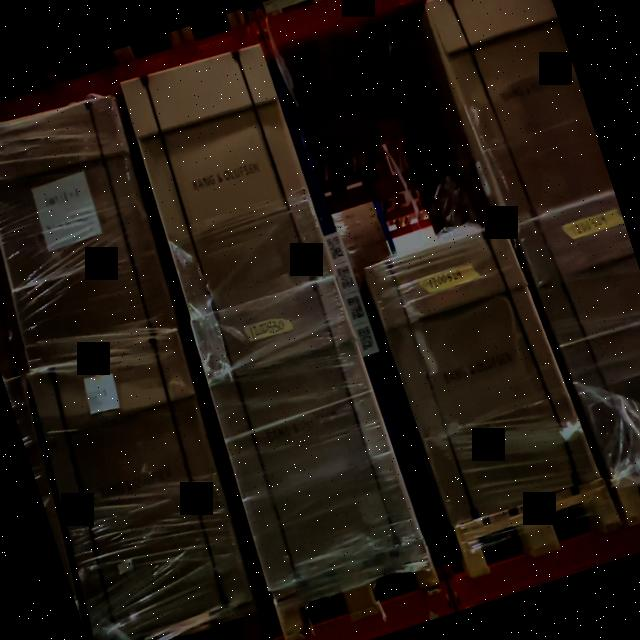box: (11, 317, 255, 640), (372, 220, 596, 524), (199, 278, 426, 570), (118, 35, 331, 324), (0, 85, 177, 360), (429, 0, 614, 225)
